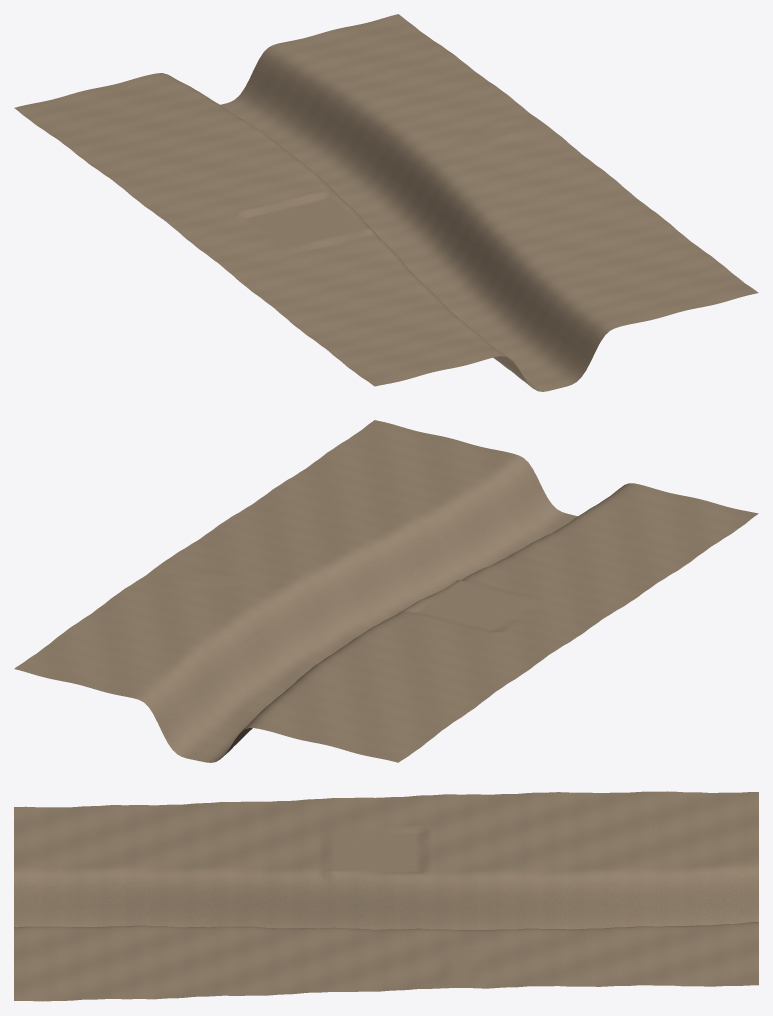
The model's file is TerraceSurface.fbx.
3 views of the same model, one above another, from view 1: azimuth 30°, elevation 25°; view 2: azimuth 150°, elevation 25°; view 3: azimuth 270°, elevation 25° (orthographic). The views are drawn at different scales.
Parts seen in each view (by area): view 1: TerraceSurface.001; view 2: TerraceSurface.001; view 3: TerraceSurface.001.
Part boxes in pixels (x1=…): TerraceSurface.001: x1=14, y1=14, x2=758, y2=391; TerraceSurface.001: x1=14, y1=420, x2=758, y2=762; TerraceSurface.001: x1=14, y1=791, x2=758, y2=1001.
Size of the model in its own units: 240 by 390 by 37.25.
